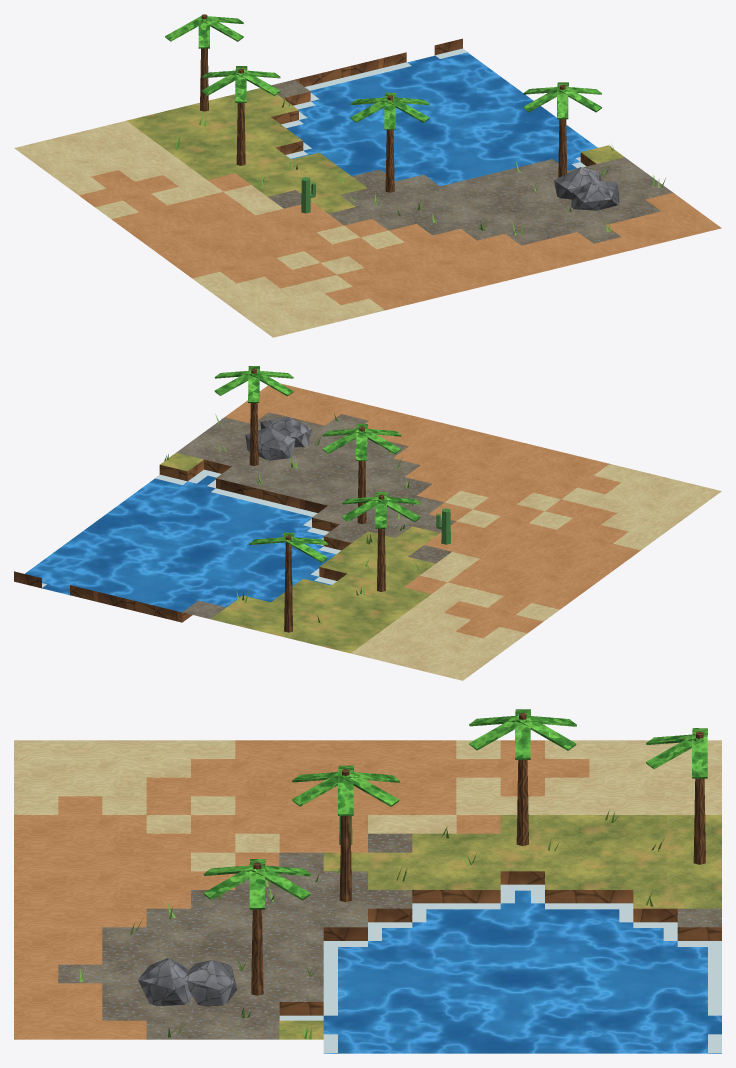
The model's file is chunk_9_21.glb.
The picture shows the model from 3 angles, top to bottom: view 1: azimuth 30°, elevation 25°; view 2: azimuth 150°, elevation 25°; view 3: azimuth 270°, elevation 25°; orthographic projection. The views are drawn at different scales.
Parts seen in each view (by area): view 1: chunk_9_21; view 2: chunk_9_21; view 3: chunk_9_21.
Boxes of the visible parts, left/top/right/bottom form: chunk_9_21: left=14, top=14, right=721, bottom=337; chunk_9_21: left=14, top=366, right=721, bottom=680; chunk_9_21: left=14, top=709, right=721, bottom=1053.
Size of the model in its own units: 16.05 by 3.66 by 16.
Materials: 13 (10 with a texture image).
